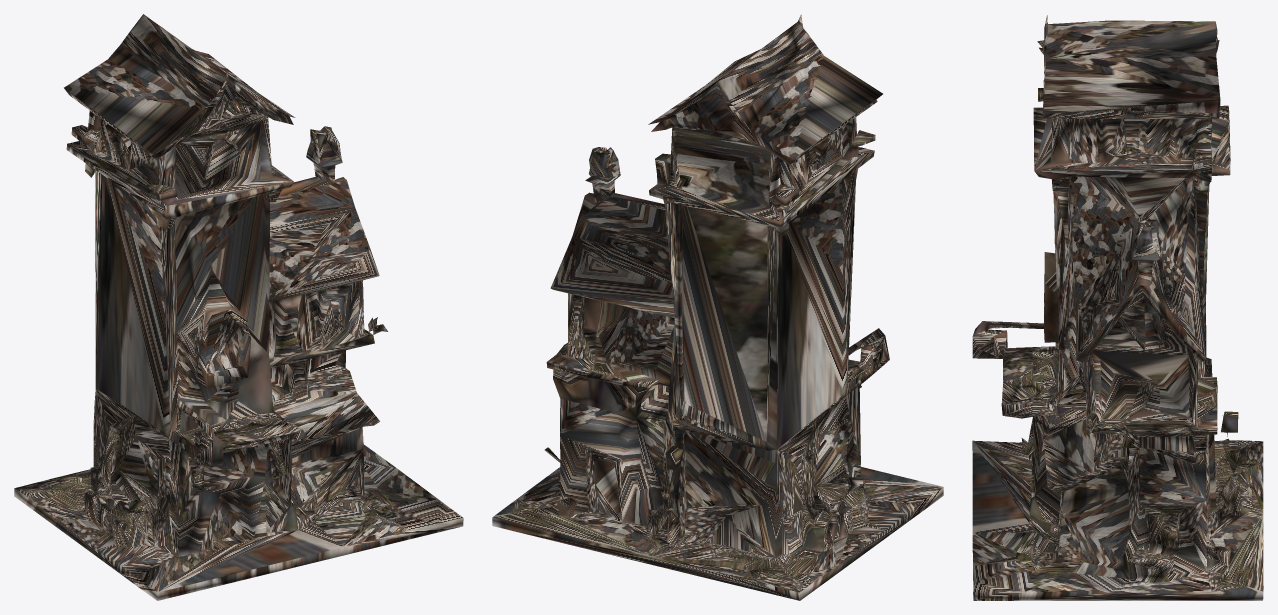
The model's file is Old_Town_Clock_Tower.glb.
3 views of the same model, side by side, from view 1: azimuth 30°, elevation 25°; view 2: azimuth 150°, elevation 25°; view 3: azimuth 270°, elevation 25° (orthographic).
Visible parts, largest first — view 1: Old_Town_Clock_Tower; view 2: Old_Town_Clock_Tower; view 3: Old_Town_Clock_Tower.
Boxes of the visible parts, box(x1,y1,x2,y2) form: Old_Town_Clock_Tower: box(14, 14, 463, 600); Old_Town_Clock_Tower: box(492, 14, 943, 600); Old_Town_Clock_Tower: box(972, 15, 1263, 600).
Bounding box in the file's own units: 1.33 × 2 × 1.08.
Materials: 1 (1 with a texture image).
